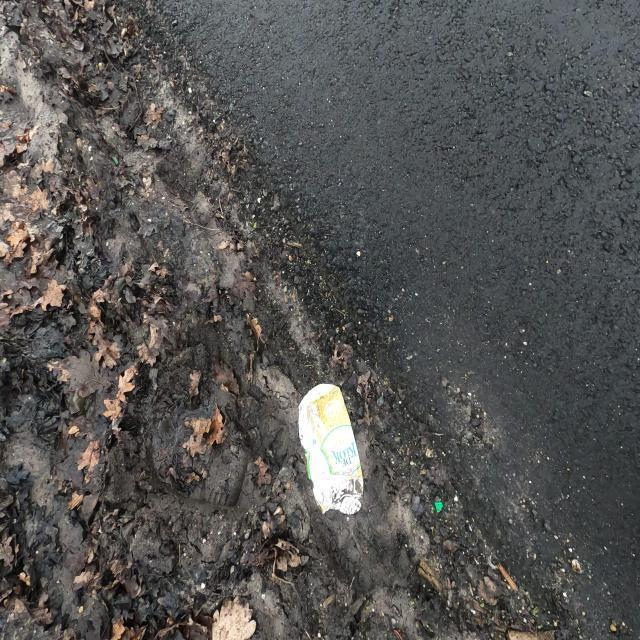Can-Metal: (295, 379, 366, 518), (290, 54, 352, 132)
